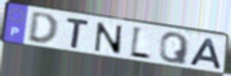A: (187, 37, 224, 71)
D: (26, 12, 60, 47)
L: (128, 25, 152, 62)
N: (93, 21, 124, 56)
Q: (158, 32, 191, 66)
T: (65, 17, 91, 51)
